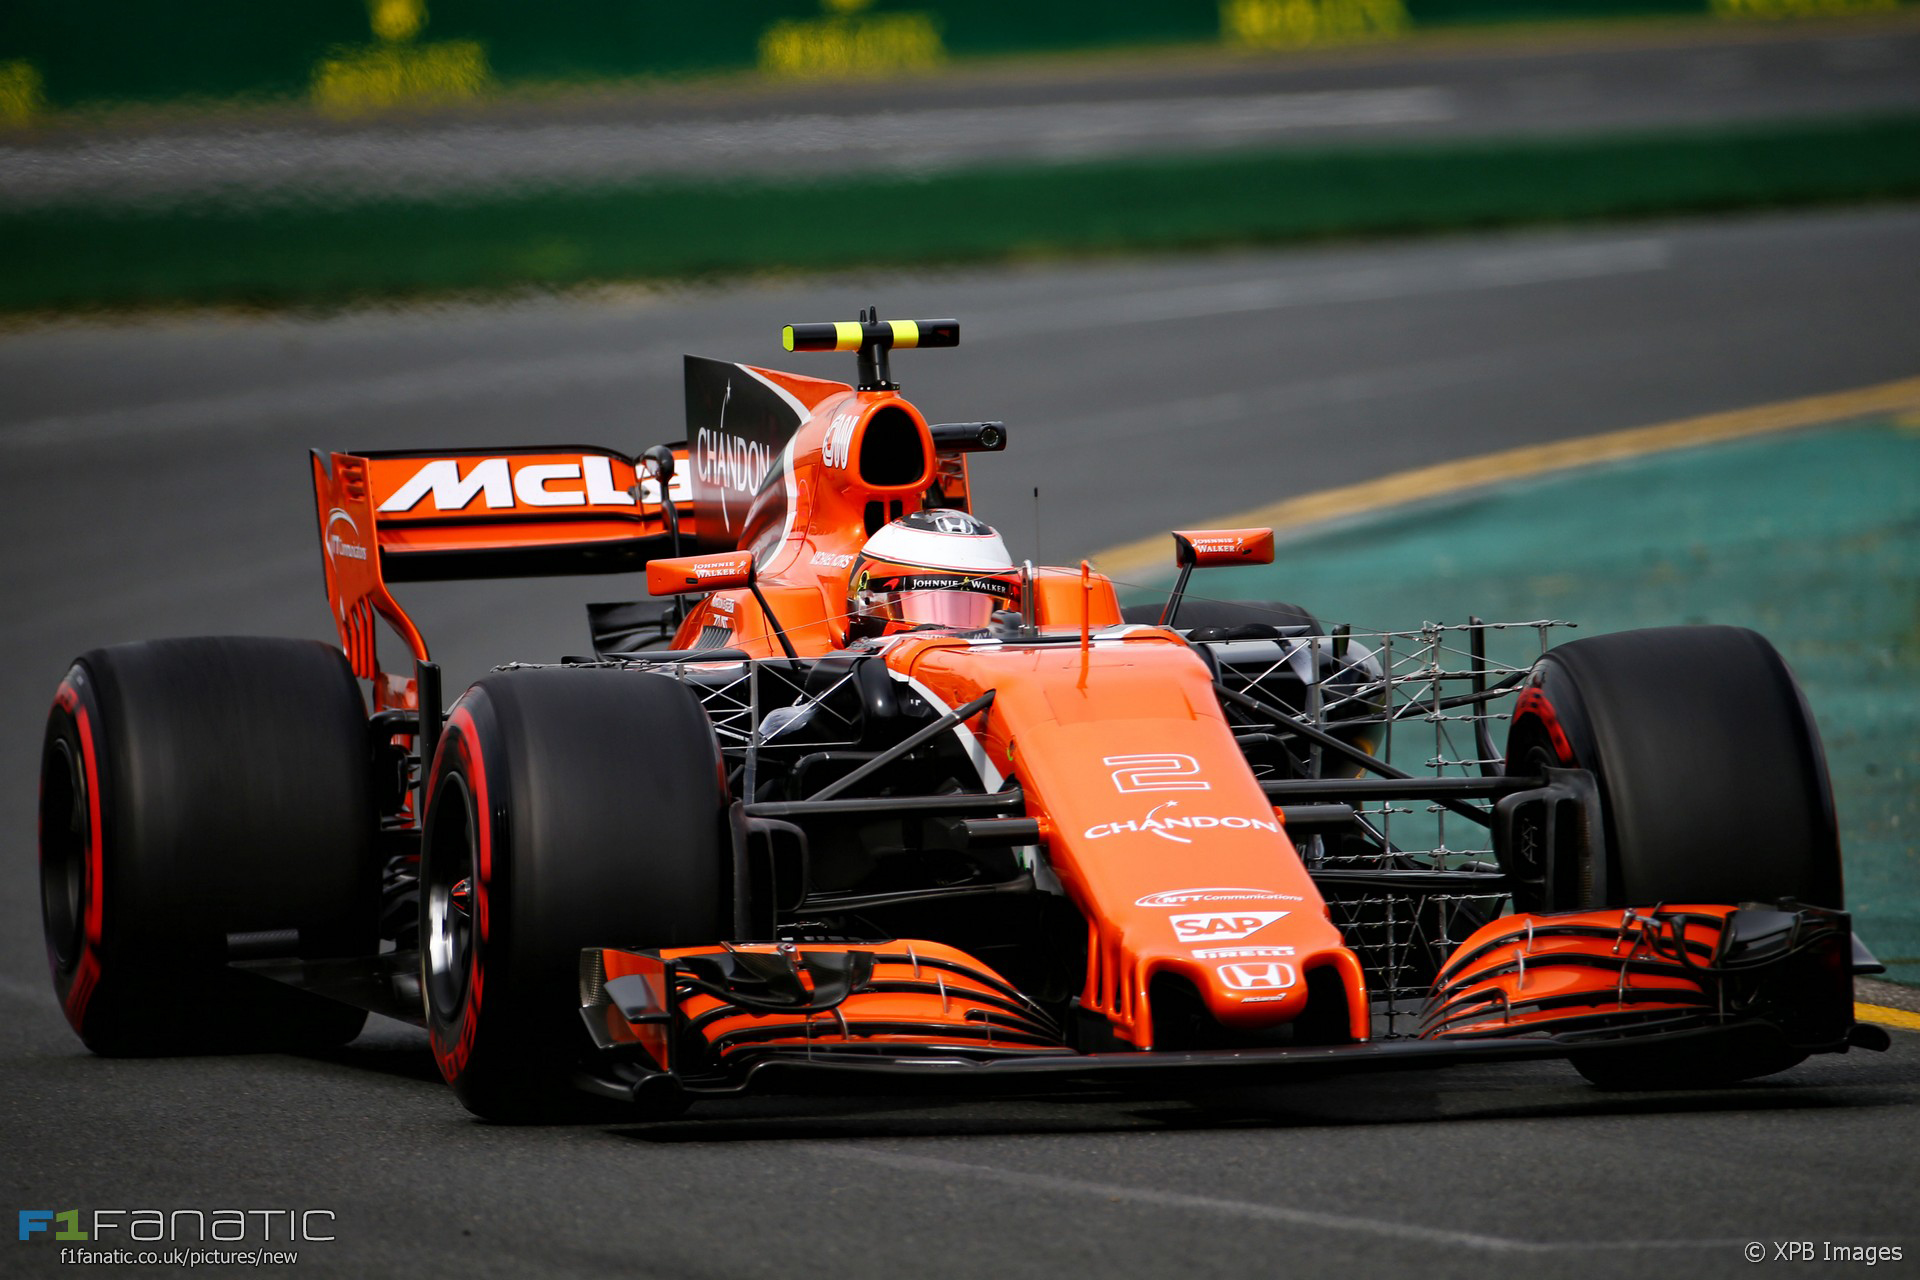F1 Car: (43, 301, 1889, 1134)
